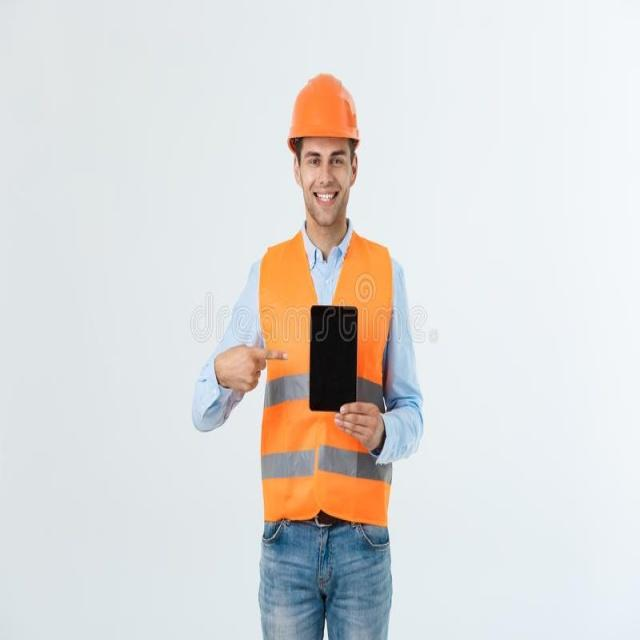helmet: (283, 92, 362, 305)
vest: (261, 311, 392, 640)
